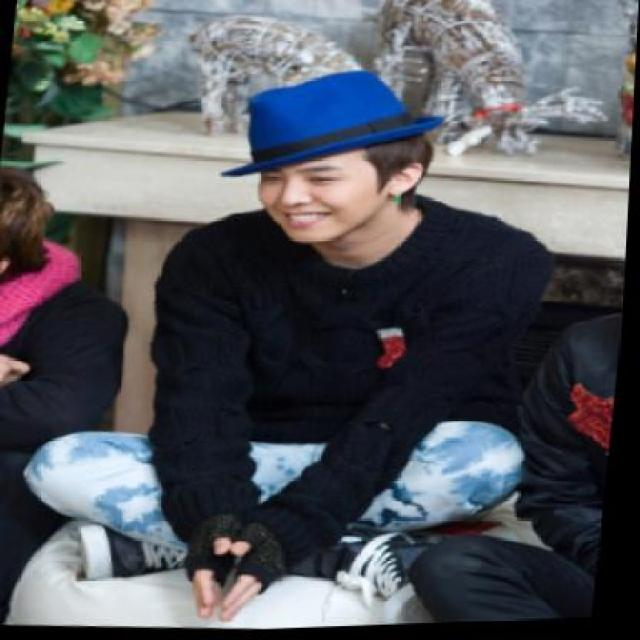hat: (212, 59, 451, 195)
